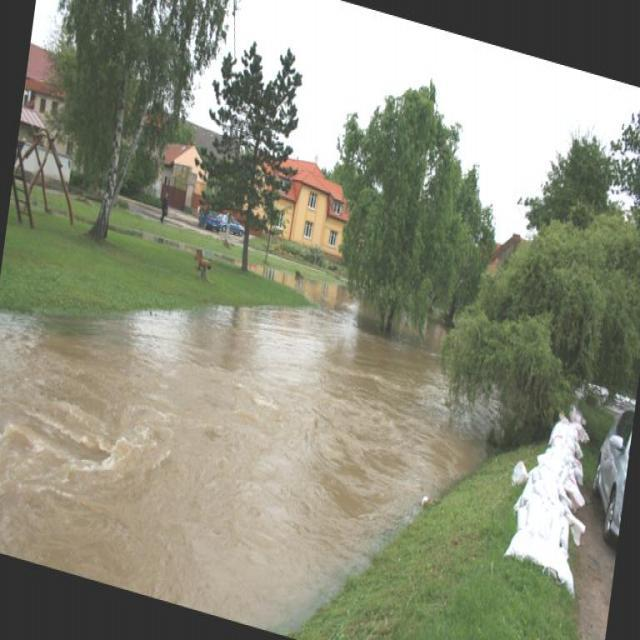flood: (0, 188, 506, 639)
